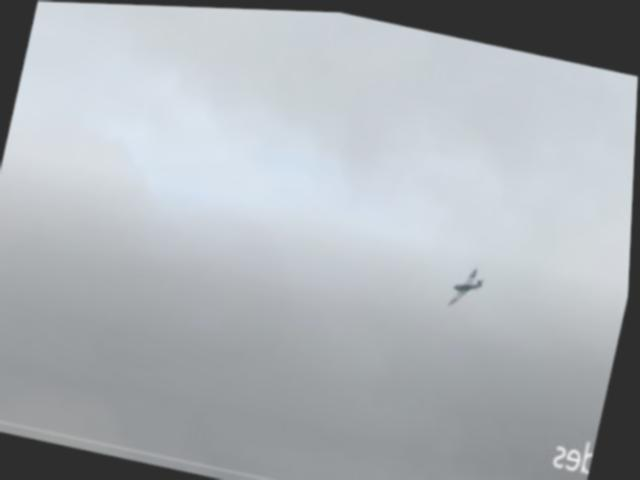uav: (444, 251, 494, 318)
